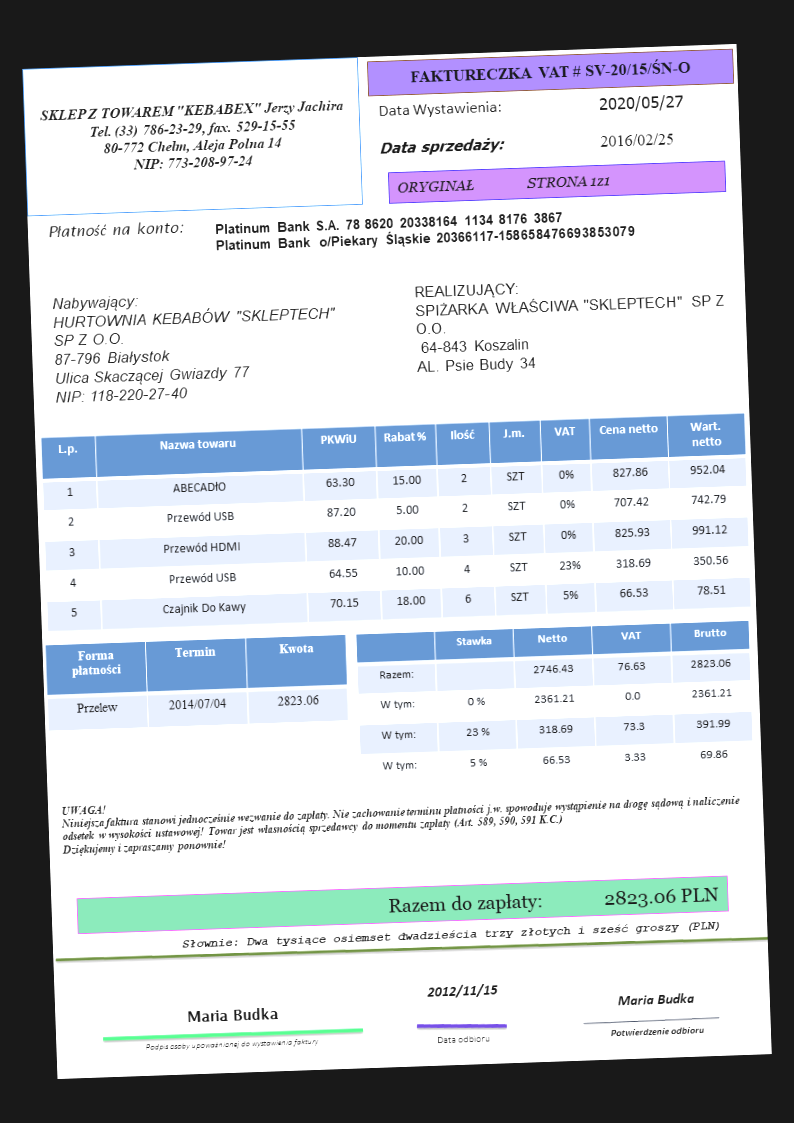Table: (39, 410, 753, 635), (353, 618, 756, 788), (44, 632, 351, 733)
TextBox: (59, 778, 742, 859), (50, 284, 342, 406), (411, 272, 730, 375), (36, 94, 346, 180), (213, 205, 640, 257), (177, 917, 722, 952), (383, 880, 721, 922), (408, 53, 697, 89), (394, 171, 613, 197), (46, 217, 184, 241), (142, 1035, 323, 1053), (374, 97, 504, 120), (377, 137, 507, 158), (596, 90, 687, 116), (183, 1004, 283, 1026), (608, 1022, 707, 1040), (614, 990, 698, 1009), (598, 130, 676, 149), (423, 981, 501, 1000), (433, 1030, 495, 1047)
